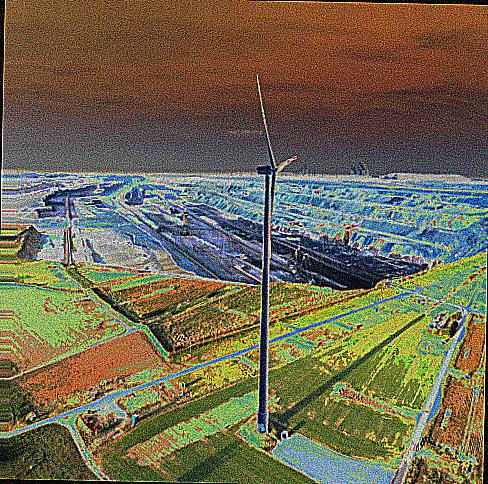wind turbine: (249, 74, 298, 430)
